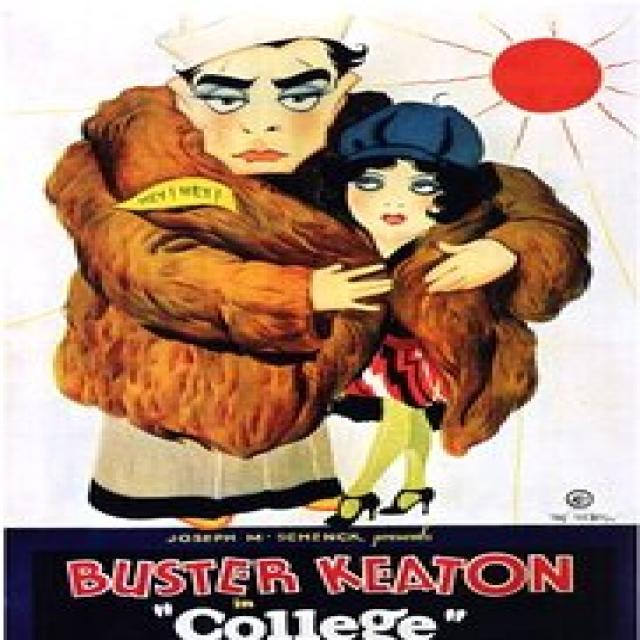movie-judul: (2, 528, 629, 640)
picture: (7, 2, 631, 525)
